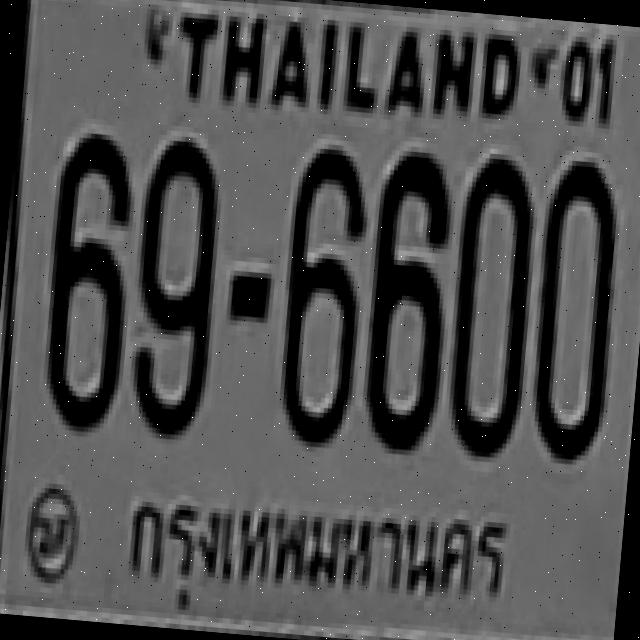0: (524, 156, 624, 459), (441, 153, 538, 456)
6: (36, 128, 138, 431), (355, 146, 456, 449), (272, 144, 368, 446)
9: (123, 133, 224, 436)
Bangkok: (113, 478, 517, 640)
